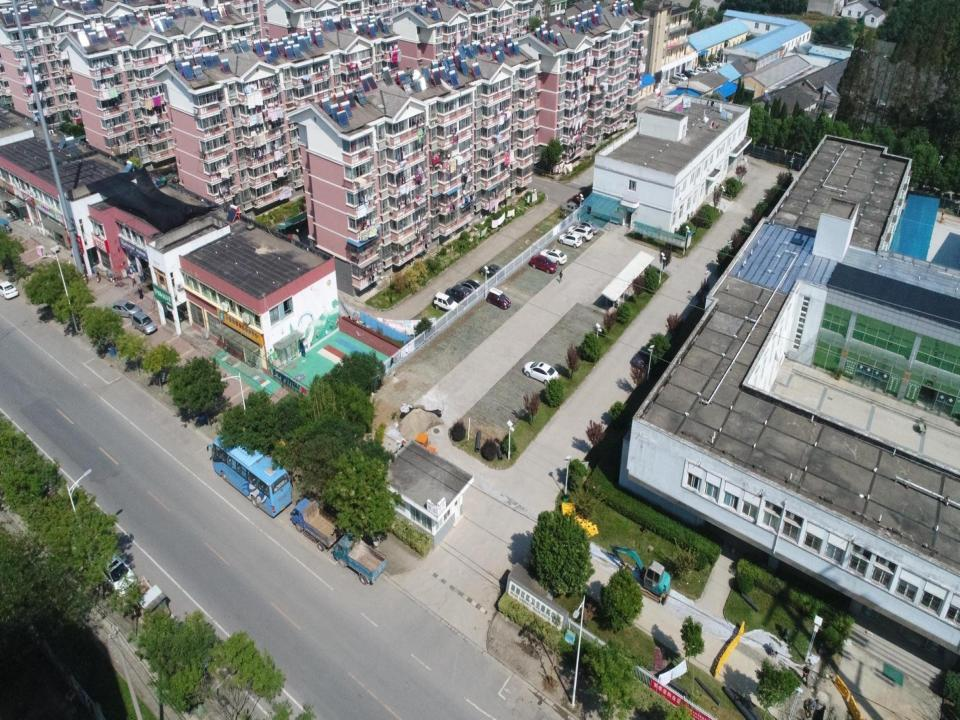bus: (211, 428, 294, 518)
car: (160, 620, 213, 678), (96, 548, 138, 598), (523, 360, 559, 387), (108, 298, 143, 318), (131, 309, 157, 335), (632, 344, 657, 371), (433, 290, 461, 314), (444, 284, 472, 306), (487, 286, 512, 310), (530, 252, 557, 274), (455, 278, 483, 299), (567, 223, 593, 243), (540, 247, 567, 265), (478, 263, 504, 281), (558, 231, 582, 249), (0, 279, 19, 300), (580, 217, 600, 235), (561, 200, 580, 214), (674, 71, 689, 83), (710, 58, 724, 70), (685, 68, 700, 78), (694, 66, 708, 76), (670, 75, 684, 85), (706, 60, 718, 71), (573, 193, 582, 206), (703, 62, 713, 72)
truck: (333, 531, 388, 585), (291, 497, 343, 552), (127, 574, 171, 632)
